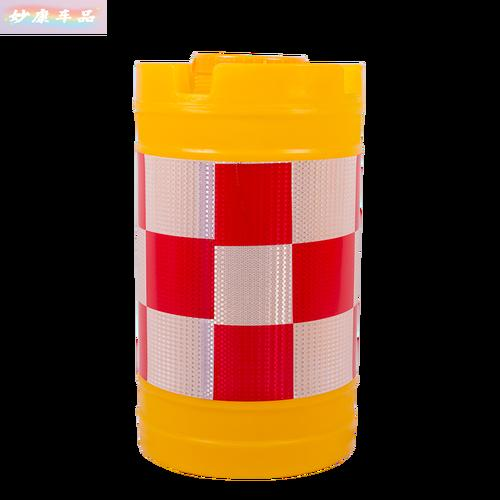sign: (121, 38, 368, 484)
